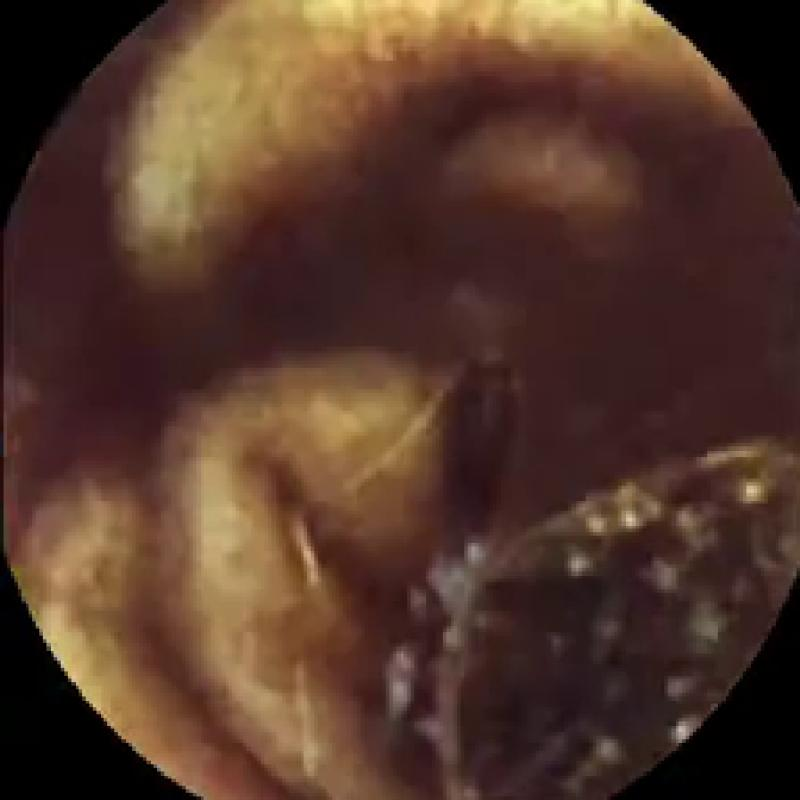bleeding: (364, 353, 528, 800)
